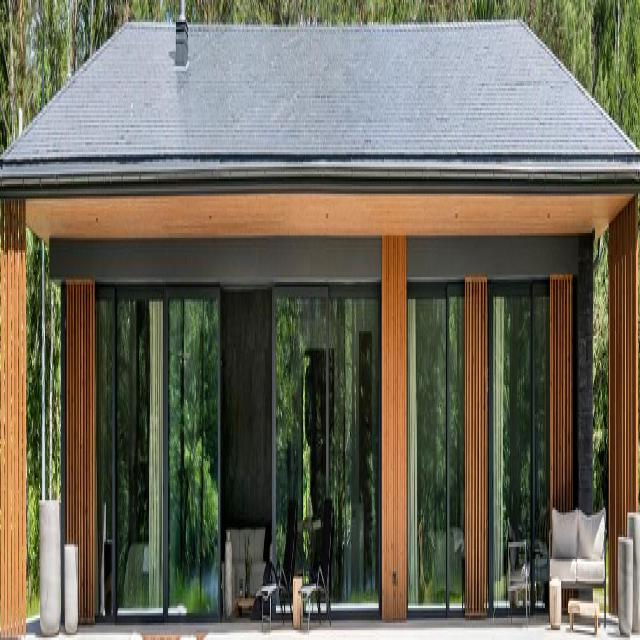door: (167, 263, 382, 637), (96, 287, 163, 638), (487, 278, 550, 630), (405, 273, 465, 623)
